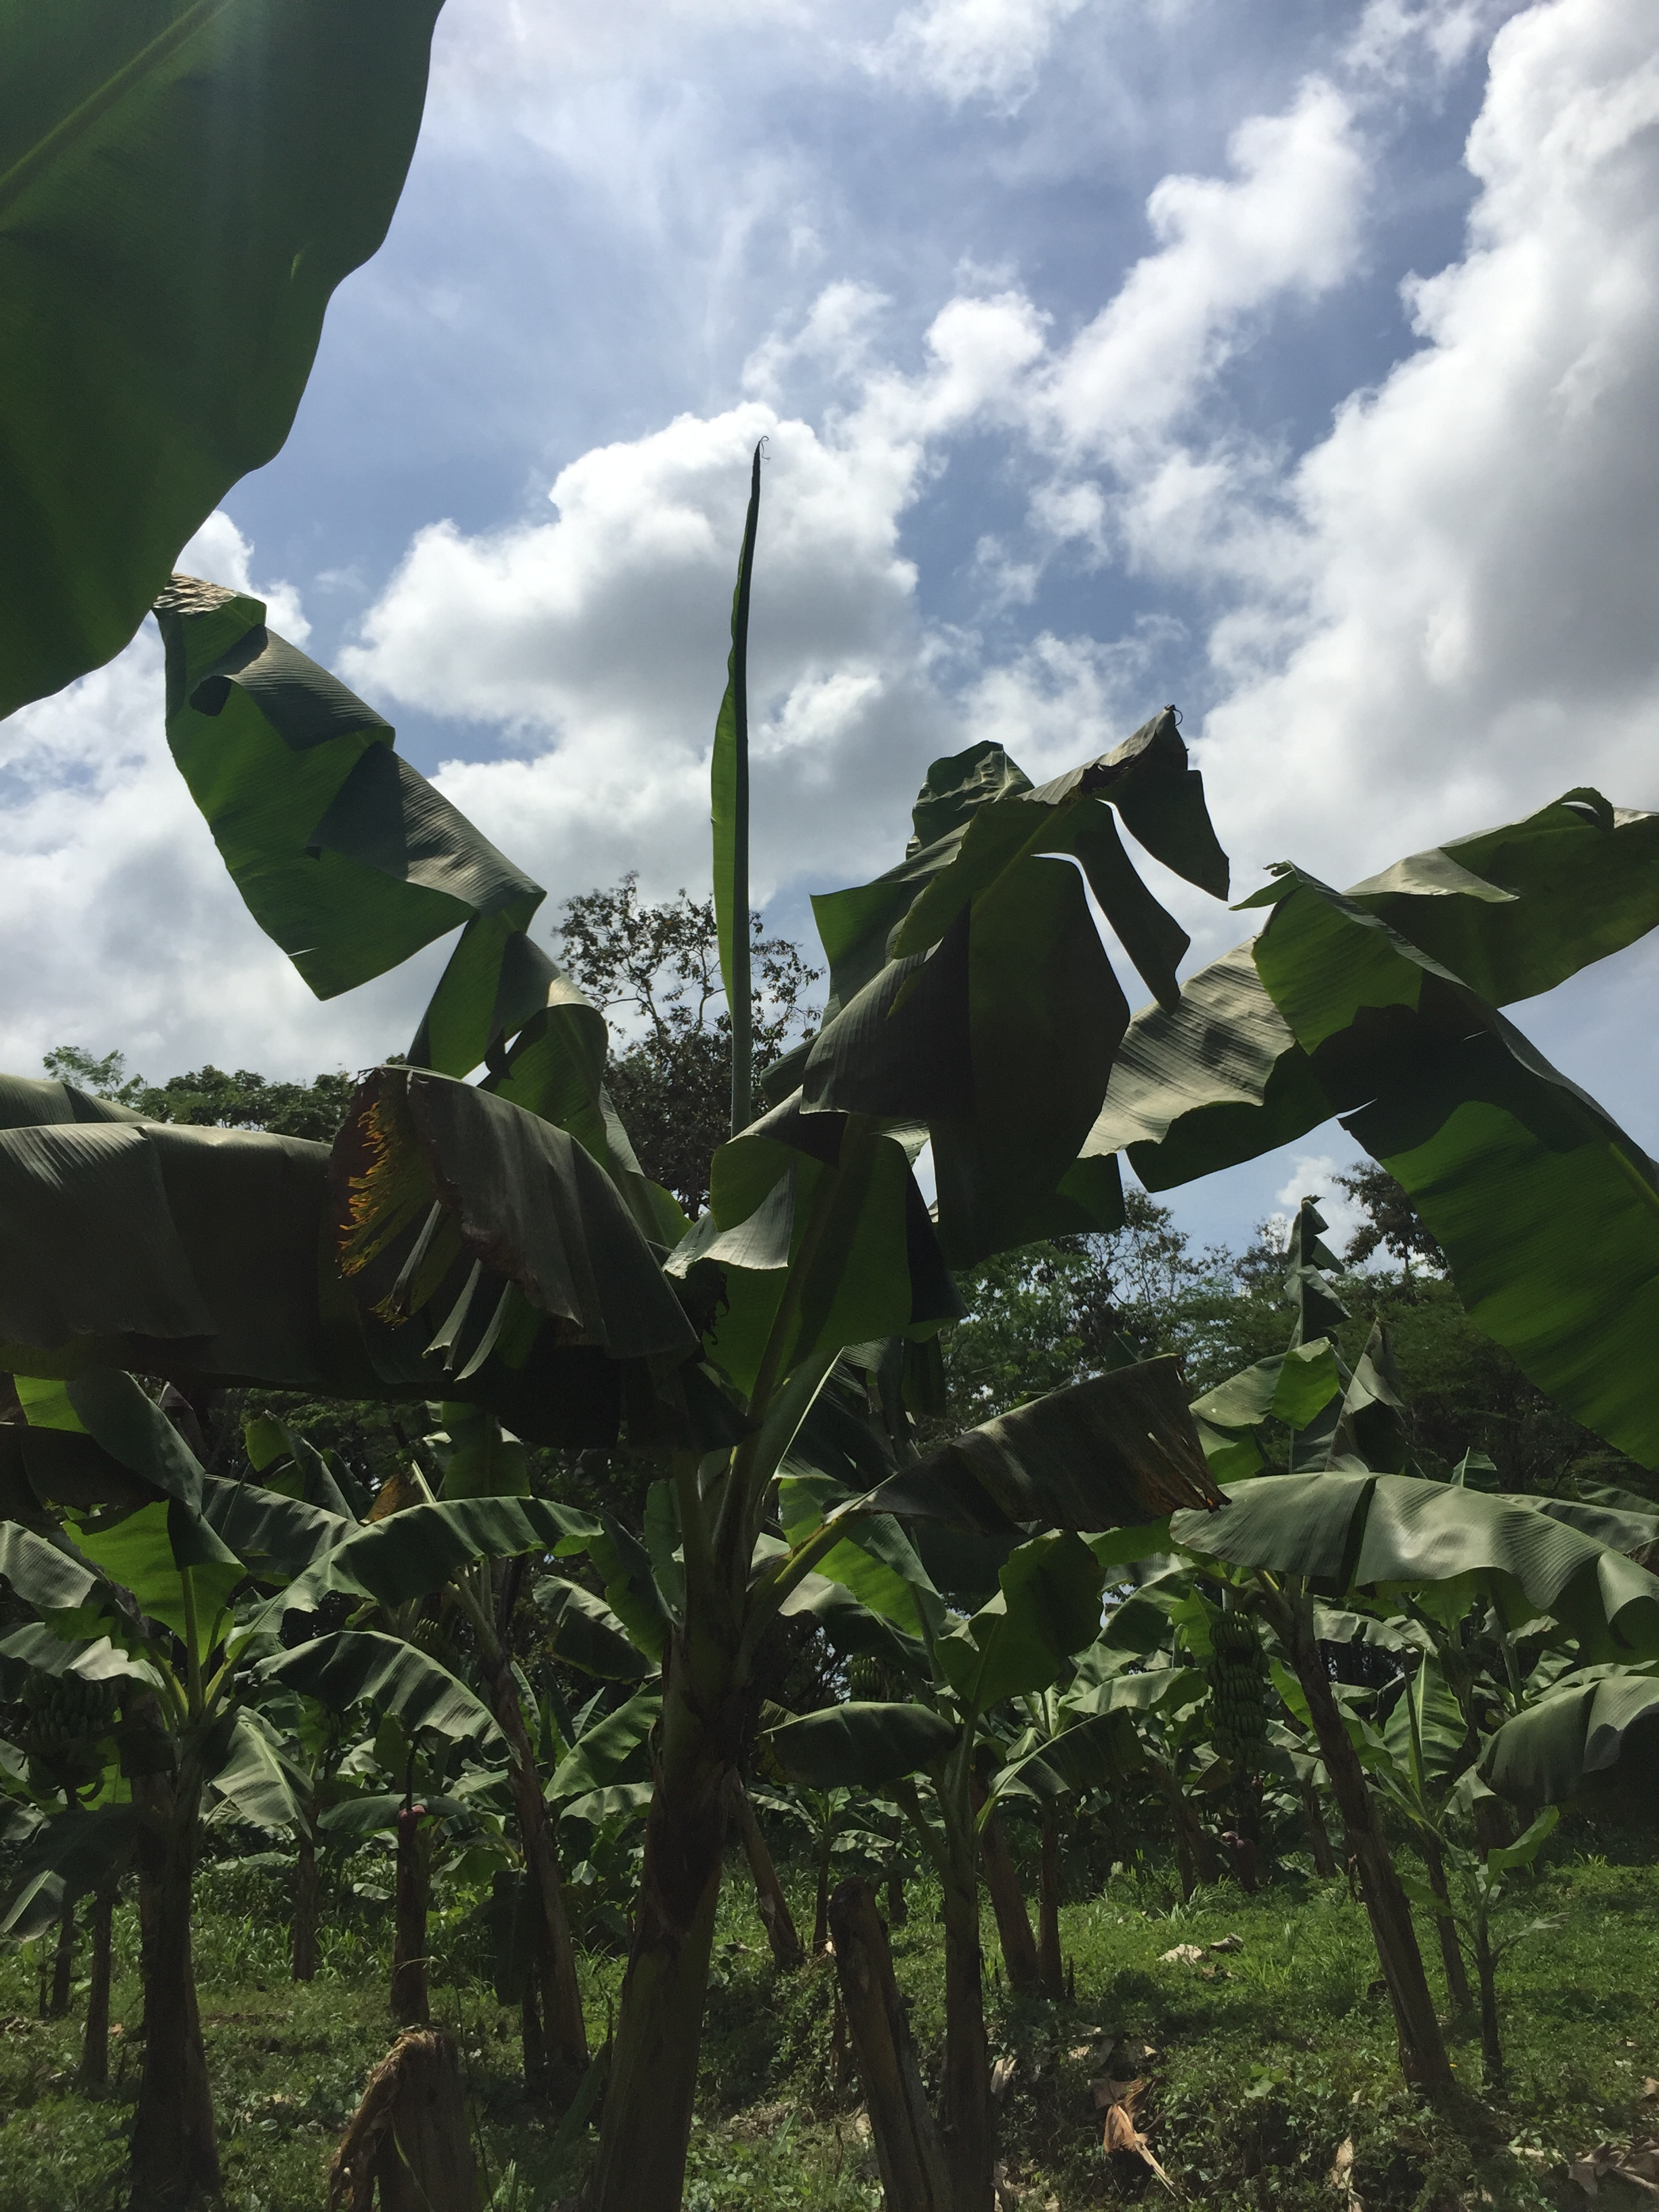candleleafs: (713, 432, 769, 1134)
